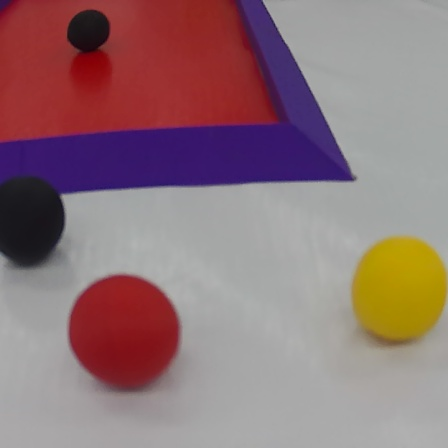black: (0, 173, 68, 267), (59, 4, 115, 56)
red: (60, 275, 187, 391)
red_aim: (0, 0, 370, 205)
yellow: (346, 238, 448, 343)
